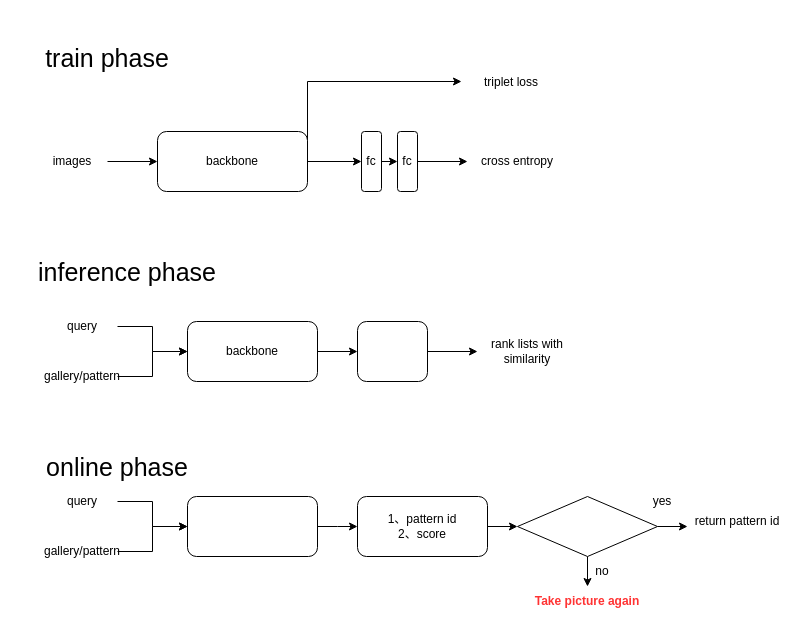
The diagram is 804 pixels wide and 633 high, and some of its shapes have lost their labels. Here are the shapes that lost their labels. From the top down, the box of each, then its label:
(356, 320, 428, 382): features similarity
(186, 496, 318, 556): AI algorithm
(516, 496, 658, 556): score>conf
